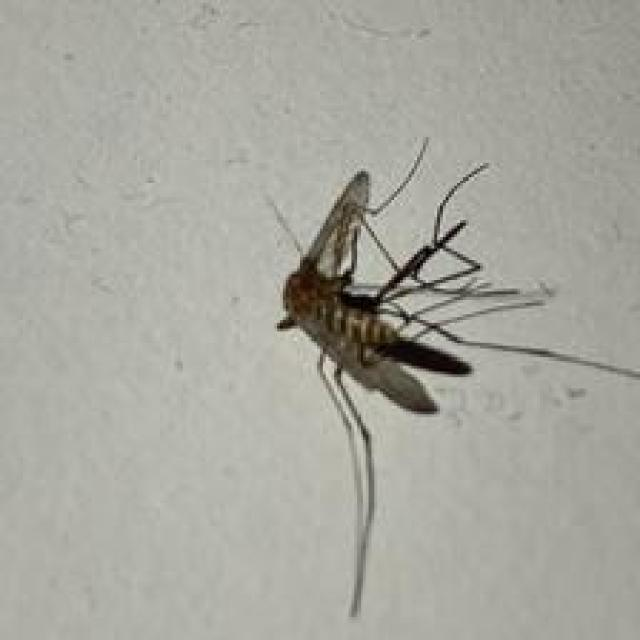Culex: (263, 136, 640, 618)
